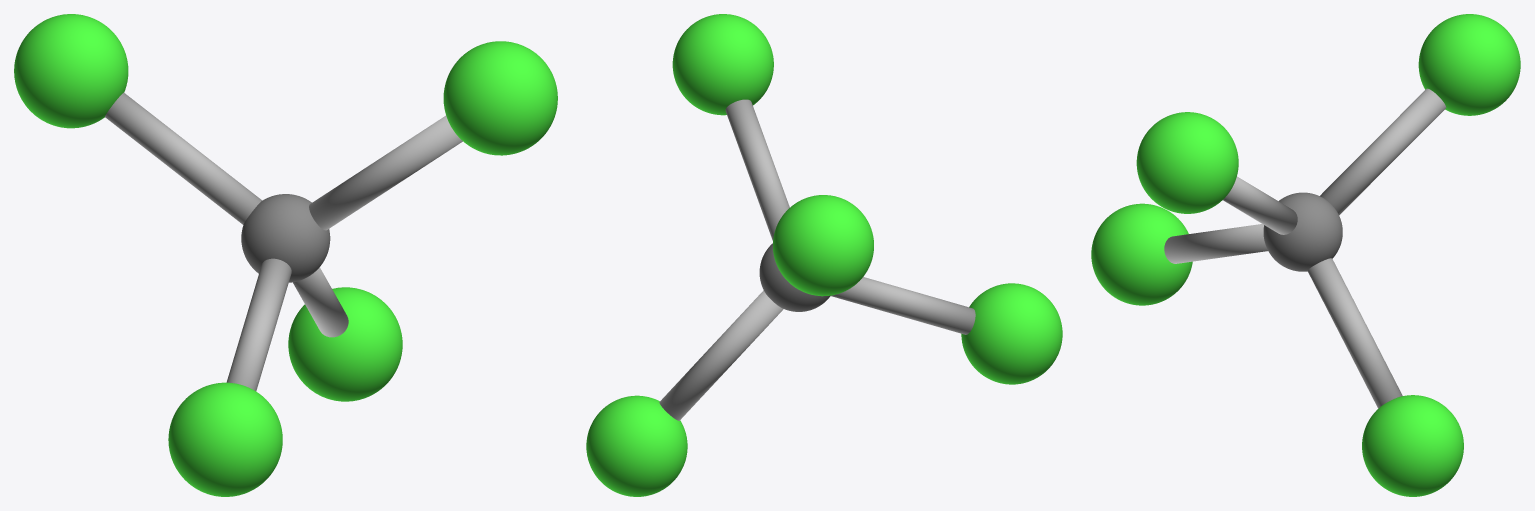
File: tetrachloromethane.glb
3 views of the same model, side by side, from view 1: azimuth 30°, elevation 25°; view 2: azimuth 150°, elevation 25°; view 3: azimuth 270°, elevation 25° (orthographic). The views are drawn at different scales.
Visible parts, largest first — view 1: CMAtom_0; view 2: CMAtom_0; view 3: CMAtom_0.
Part boxes in pixels (x1=…): CMAtom_0: x1=14, y1=14, x2=557, y2=496; CMAtom_0: x1=586, y1=14, x2=1062, y2=496; CMAtom_0: x1=1091, y1=14, x2=1520, y2=496.
Size of the model in its own units: 0.3195 by 0.3325 by 0.3335.
